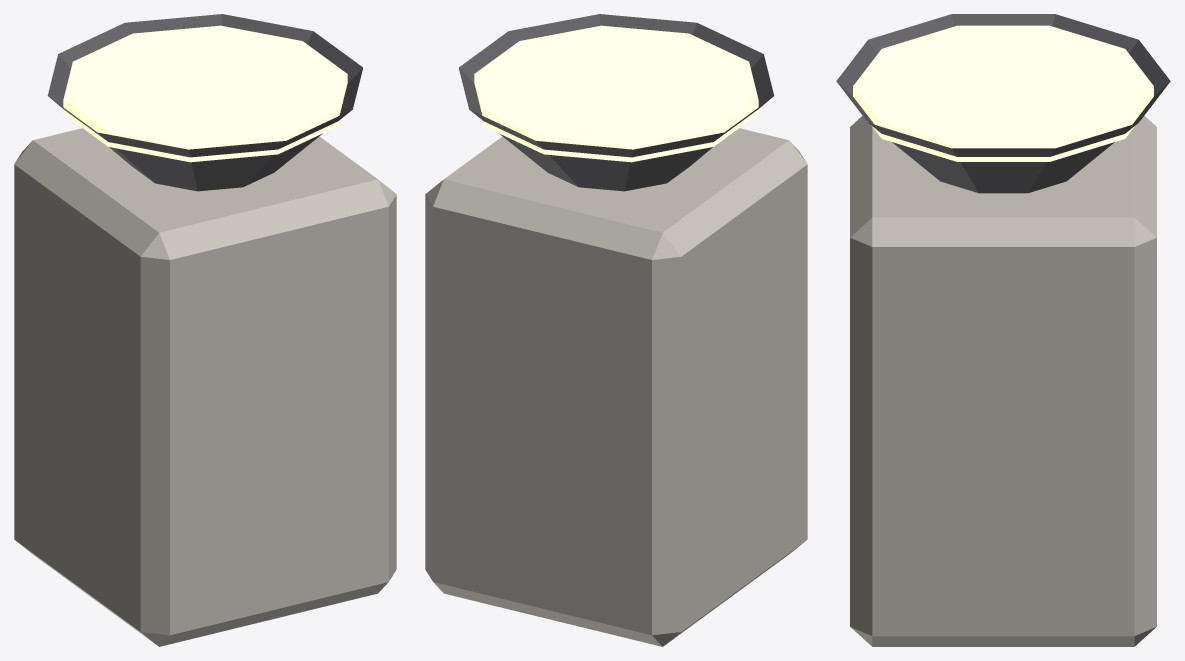
File: Checkpoint.fbx
The picture shows the model from 3 angles, left to right: view 1: azimuth 30°, elevation 25°; view 2: azimuth 150°, elevation 25°; view 3: azimuth 270°, elevation 25°; orthographic projection. The views are drawn at different scales.
Visible parts, largest first — view 1: Checkpoint; view 2: Checkpoint; view 3: Checkpoint.
Part boxes in pixels (x1=…): Checkpoint: x1=14, y1=14, x2=396, y2=646; Checkpoint: x1=425, y1=14, x2=807, y2=646; Checkpoint: x1=836, y1=14, x2=1170, y2=646.
Size of the model in its own units: 0.5706 by 1.01 by 0.6.
